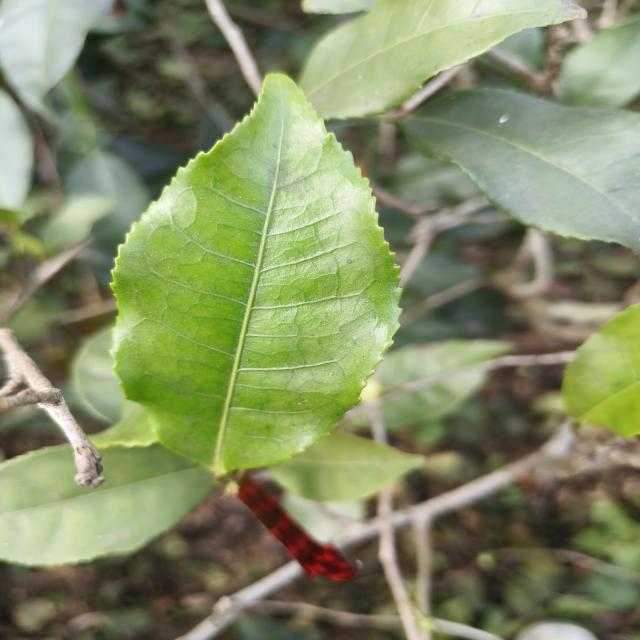Leaf: (113, 75, 400, 475), (403, 88, 640, 252), (298, 0, 586, 119), (0, 444, 213, 566), (0, 0, 114, 114), (376, 340, 512, 429), (270, 430, 426, 502), (562, 304, 640, 436), (66, 149, 150, 247), (559, 16, 640, 107), (72, 327, 125, 423), (41, 194, 114, 253)
